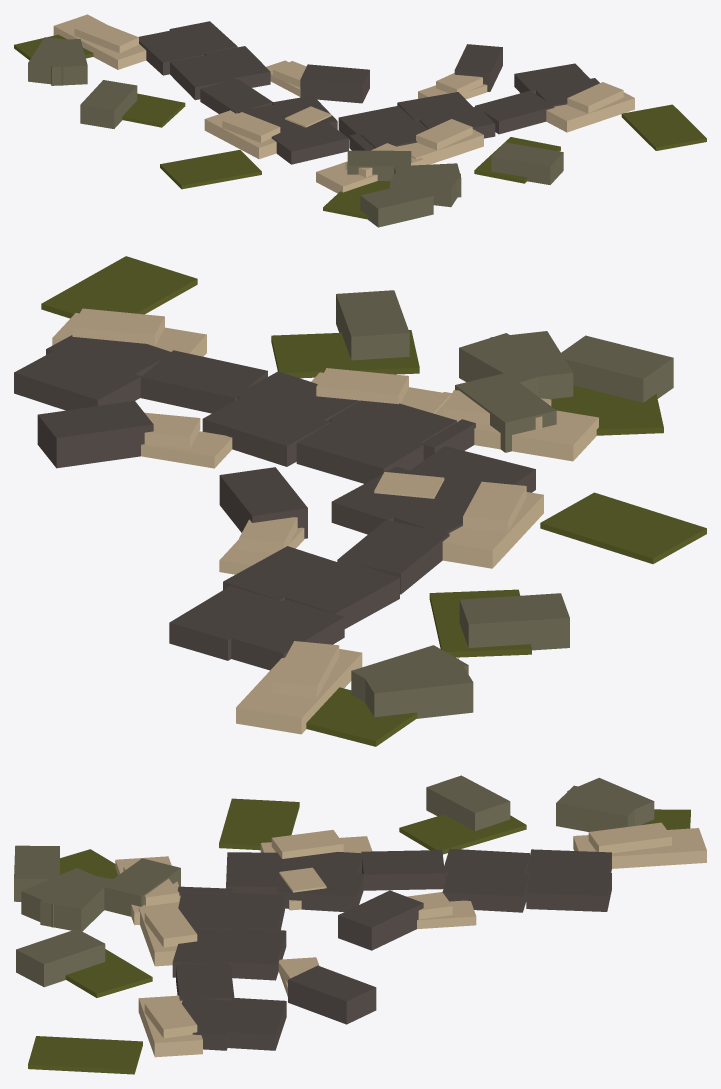
File: SM_SacosEsquina_v4_Red_e3_Brecha_LOD1.fbx
3 views of the same model, one above another, from view 1: azimuth 30°, elevation 25°; view 2: azimuth 150°, elevation 25°; view 3: azimuth 270°, elevation 25° (orthographic). The views are drawn at different scales.
Visible parts, largest first — view 1: SM_sacos_piezas_v19_LOD1; view 2: SM_sacos_piezas_v19_LOD1; view 3: SM_sacos_piezas_v19_LOD1.
Boxes of the visible parts, x1,y1,x2,y2 form: SM_sacos_piezas_v19_LOD1: (14,14,706,227); SM_sacos_piezas_v19_LOD1: (14,256,706,746); SM_sacos_piezas_v19_LOD1: (14,775,706,1074).
Bounding box in the file's own units: 6.69 × 0.26 × 7.09.
